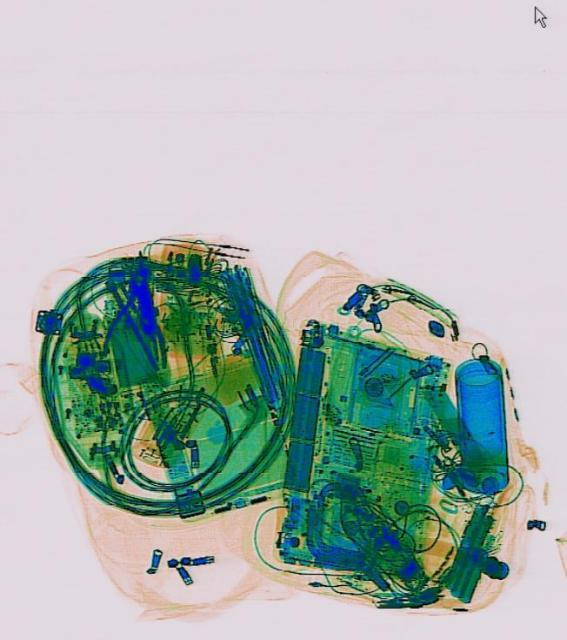Pliers: (100, 264, 171, 368)
